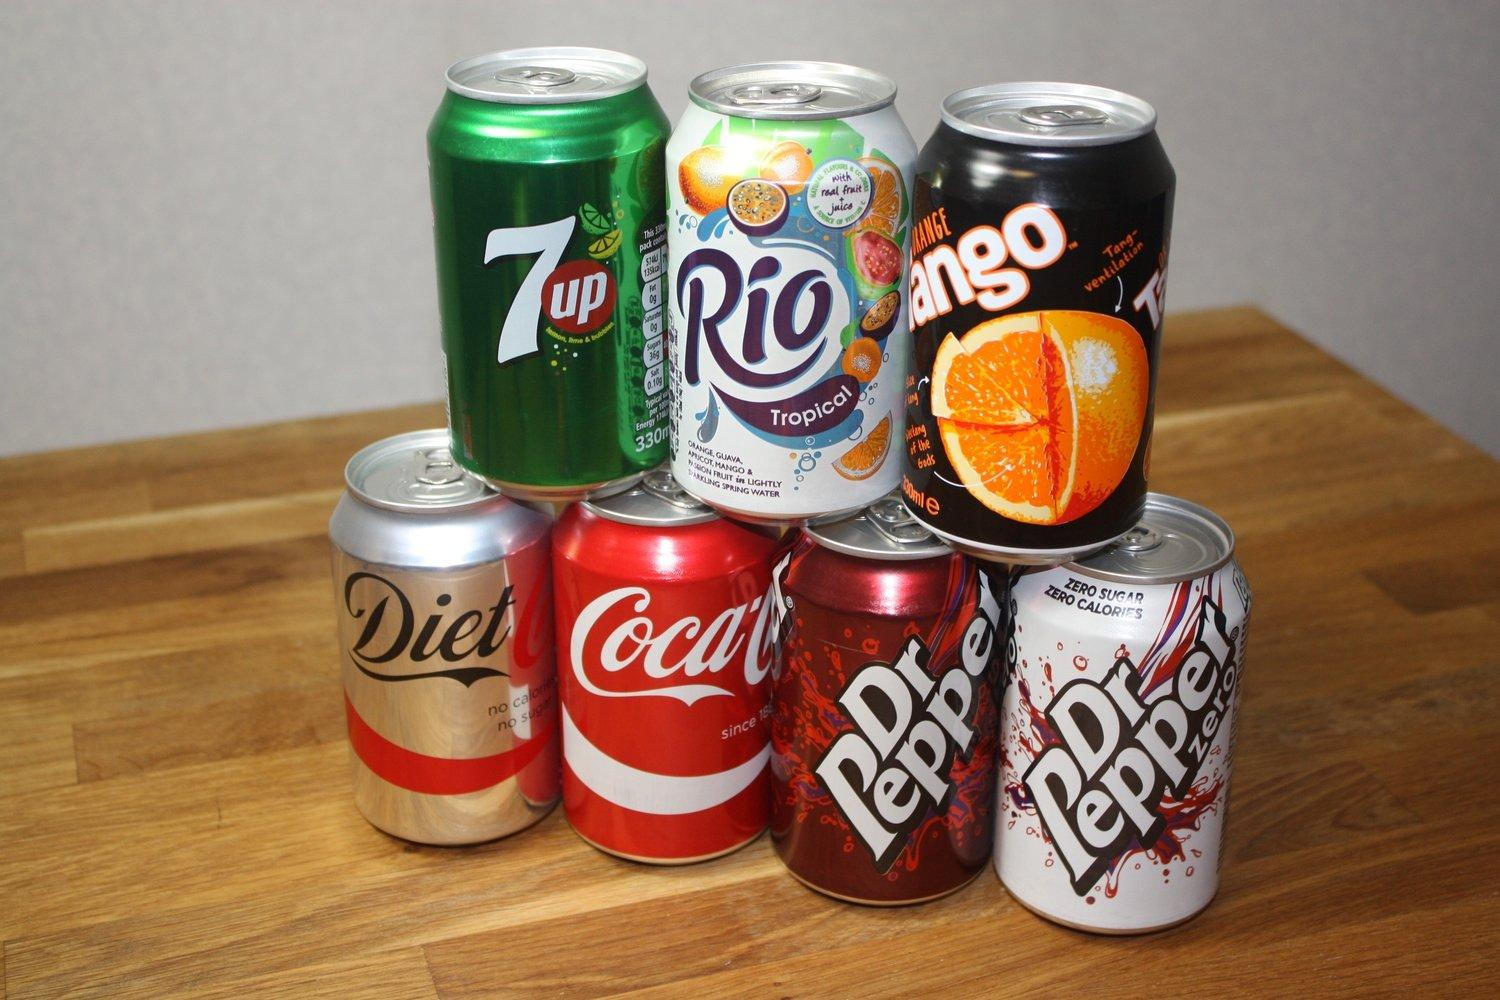can: (902, 81, 1174, 558), (666, 62, 916, 522), (994, 494, 1251, 933), (429, 47, 669, 502), (770, 492, 1006, 906), (329, 429, 560, 845), (554, 460, 779, 863)
